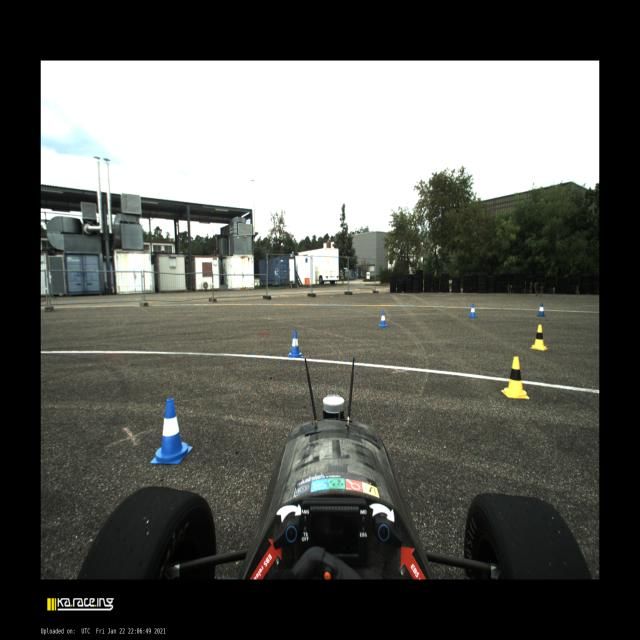blue_cone: (150, 398, 193, 464), (288, 331, 303, 358), (378, 311, 388, 327), (469, 304, 477, 318), (537, 303, 545, 317)
yellow_cone: (502, 356, 530, 398), (530, 324, 548, 350)
